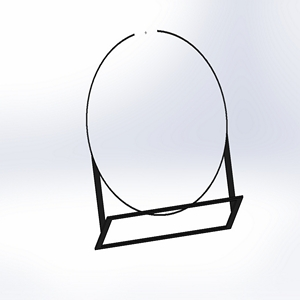circle: (85, 27, 243, 252)
